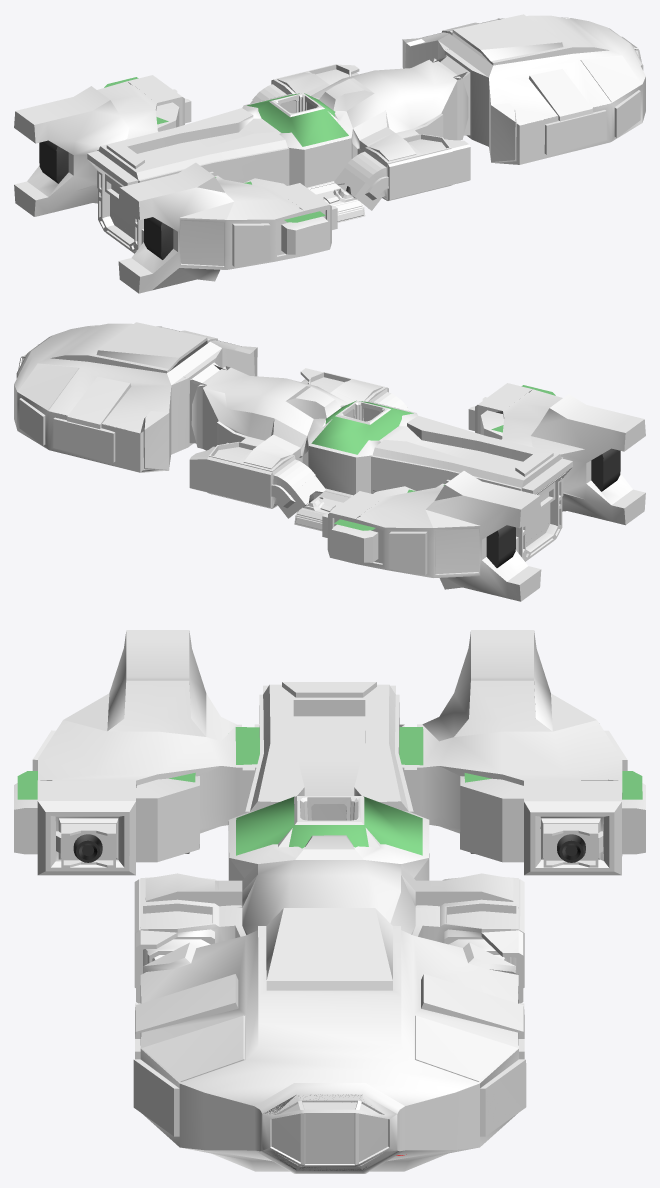
File: Ship-Whole.fbx
The picture shows the model from 3 angles, top to bottom: view 1: azimuth 30°, elevation 25°; view 2: azimuth 150°, elevation 25°; view 3: azimuth 270°, elevation 25°; orthographic projection. The views are drawn at different scales.
Visible parts, largest first — view 1: Ship-Hull, Ship-Top, Ship-Ceiling, Ship-Shuttle; view 2: Ship-Hull, Ship-Top, Ship-Ceiling, Ship-Shuttle; view 3: Ship-Top, Ship-Hull, Ship-Ceiling, Ship-Windows.
Boxes of the visible parts, bbox=[...] form: Ship-Hull: bbox=[14, 28, 645, 293]; Ship-Top: bbox=[97, 14, 645, 219]; Ship-Ceiling: bbox=[104, 77, 348, 222]; Ship-Shuttle: bbox=[307, 181, 365, 222]; Ship-Hull: bbox=[14, 336, 645, 601]; Ship-Top: bbox=[14, 322, 562, 527]; Ship-Ceiling: bbox=[311, 385, 555, 530]; Ship-Shuttle: bbox=[294, 488, 353, 531]; Ship-Top: bbox=[38, 682, 622, 1106]; Ship-Hull: bbox=[14, 630, 645, 1173]; Ship-Ceiling: bbox=[17, 727, 642, 855]; Ship-Windows: bbox=[271, 804, 388, 1163].
Size of the model in its own units: 59.01 by 12.71 by 35.35.
